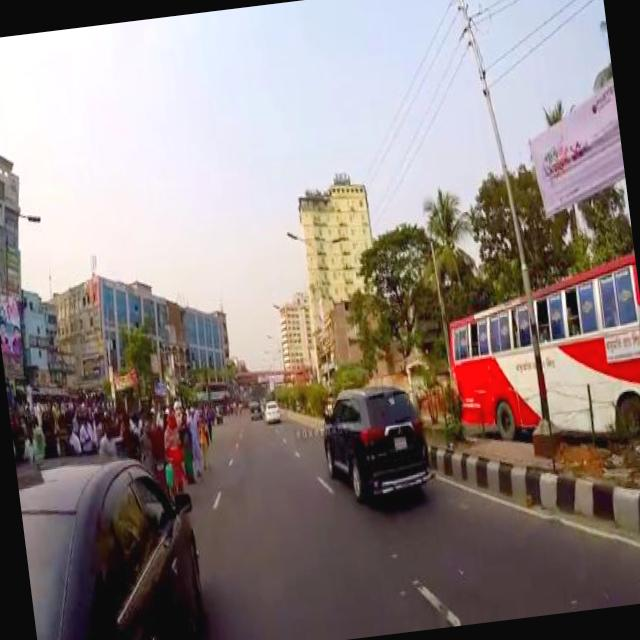bus: (435, 248, 640, 453)
car: (14, 438, 209, 640), (315, 373, 432, 498), (260, 394, 279, 416)
truck: (246, 394, 260, 414)
